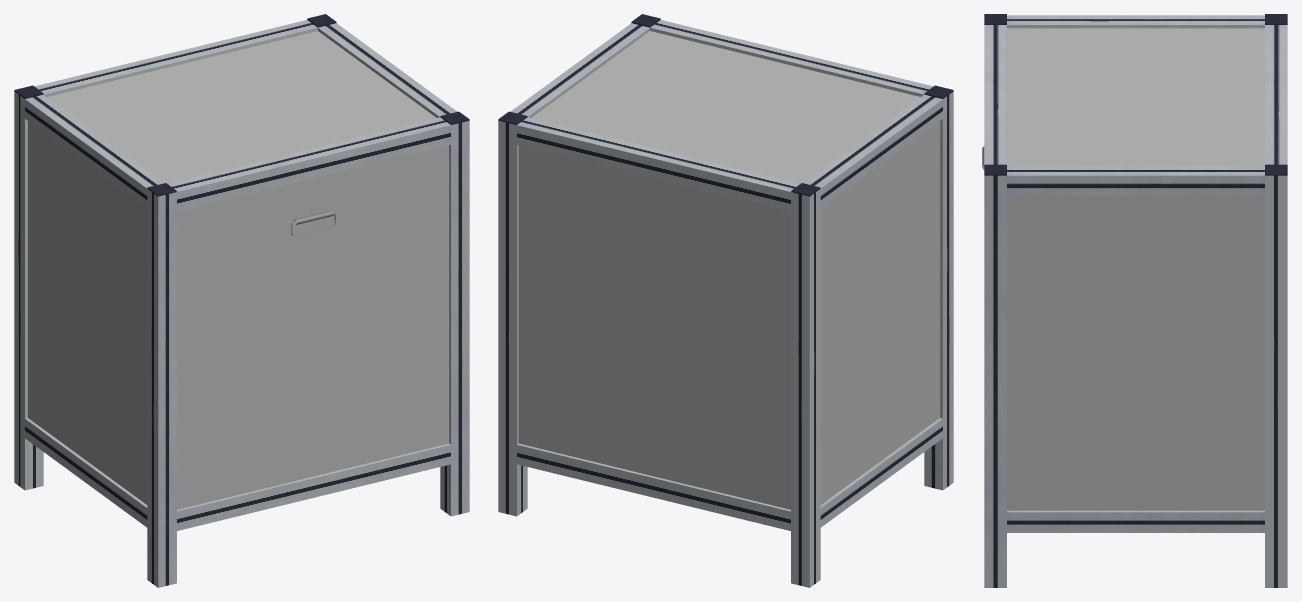
The model's file is zhiwu01.FBX.
3 renders of one model, left to right at view 1: azimuth 30°, elevation 25°; view 2: azimuth 150°, elevation 25°; view 3: azimuth 270°, elevation 25°, orthographic. The views are drawn at different scales.
Parts seen in each view (by area): view 1: YF_Model_zhiwu01; view 2: YF_Model_zhiwu01; view 3: YF_Model_zhiwu01.
Boxes of the visible parts, bbox=[...] form: YF_Model_zhiwu01: bbox=[14, 14, 469, 587]; YF_Model_zhiwu01: bbox=[498, 14, 953, 587]; YF_Model_zhiwu01: bbox=[982, 14, 1287, 587].
Bounding box in the file's own units: 50 × 60.2 × 40.3.
